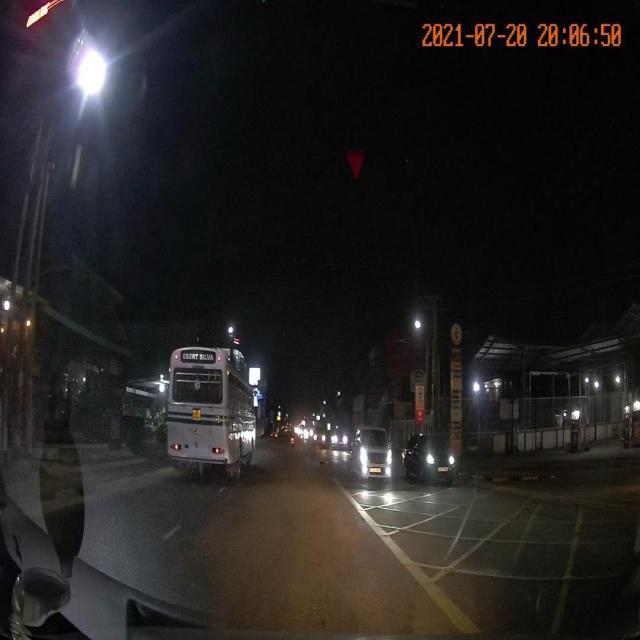Jeltaya razmetka: (344, 481, 639, 635)
